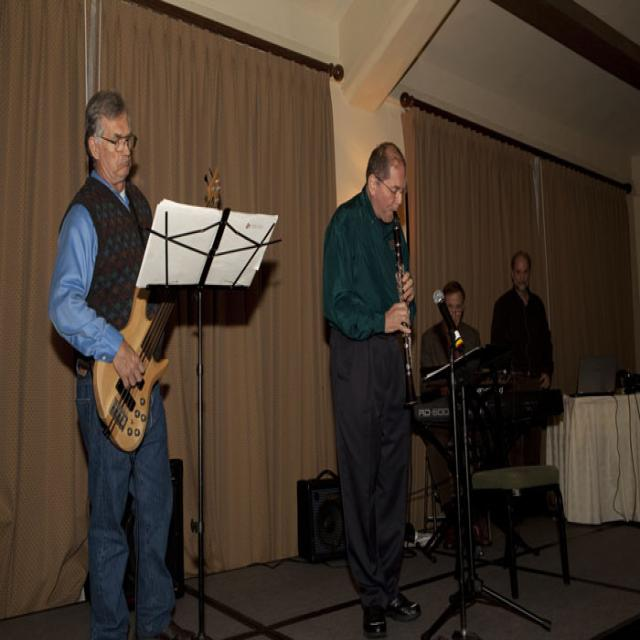clarinet: (391, 210, 416, 410)
